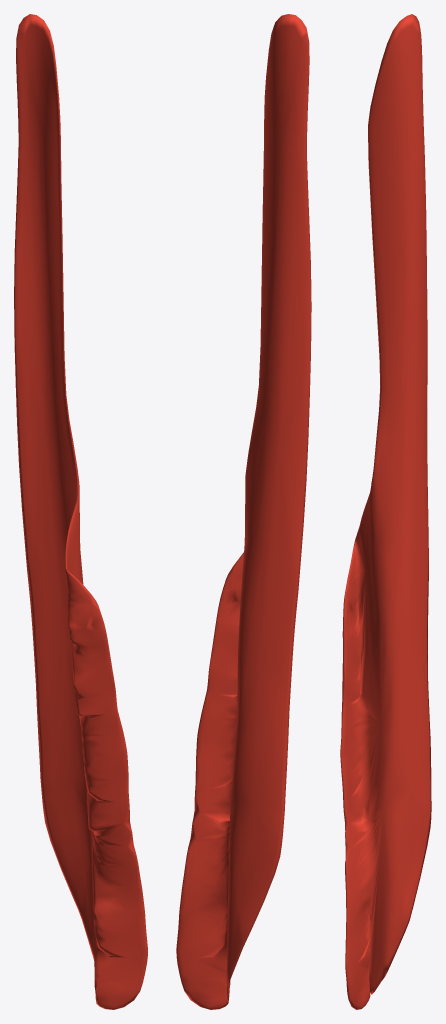
File: Flexor_hallucis_longus_on_post._fibular_surf.r_Generated_Mesh_F.glb
3 renders of one model, left to right at view 1: azimuth 30°, elevation 25°; view 2: azimuth 210°, elevation 25°; view 3: azimuth 270°, elevation 25°, orthographic. The views are drawn at different scales.
Visible parts, largest first — view 1: Flexor_hallucis_longus_on_post._fibular_surf.r_Generated_Mes; view 2: Flexor_hallucis_longus_on_post._fibular_surf.r_Generated_Mes; view 3: Flexor_hallucis_longus_on_post._fibular_surf.r_Generated_Mes.
Boxes of the visible parts, left/top/right/bottom form: Flexor_hallucis_longus_on_post._fibular_surf.r_Generated_Mes: left=14, top=14, right=147, bottom=1009; Flexor_hallucis_longus_on_post._fibular_surf.r_Generated_Mes: left=176, top=14, right=311, bottom=1009; Flexor_hallucis_longus_on_post._fibular_surf.r_Generated_Mes: left=340, top=14, right=431, bottom=1009.
Bounding box in the file's own units: 0.017 × 0.1733 × 0.0148.
